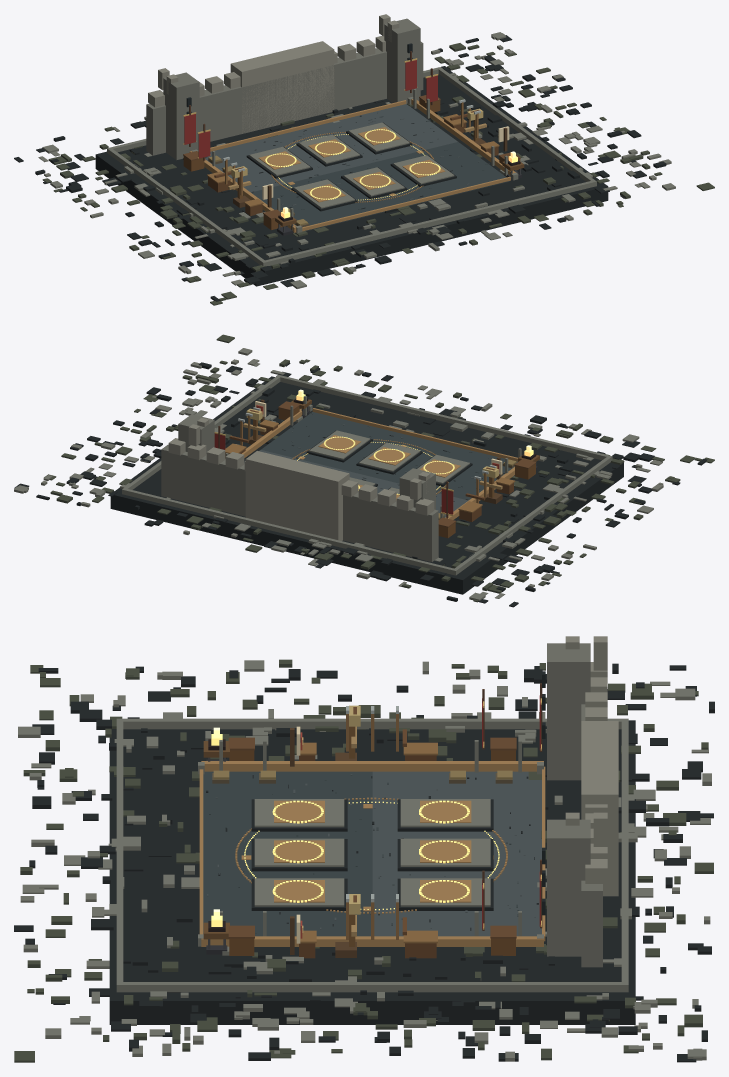
The model's file is preview-castle.glb.
3 renders of one model, top to bottom at view 1: azimuth 30°, elevation 25°; view 2: azimuth 150°, elevation 25°; view 3: azimuth 270°, elevation 25°, orthographic. The views are drawn at different scales.
Visible parts, largest first — view 1: Miniature_Plinth, Miniature_Outer_Rubble, Miniature_Castle_Wall, Miniature_Six_Grounded_Foundations (×2), Miniature_Enemy_Floor, Miniature_Friendly_Floor, Miniature_Gatehouse, Miniature_Frame, Miniature_Towers, Miniature_Arena_Curb, Miniature_Battlements, Miniature_Banners (+5 smaller); view 2: Miniature_Outer_Rubble, Miniature_Plinth, Miniature_Castle_Wall, Miniature_Gatehouse, Miniature_Frame, Miniature_Friendly_Floor, Miniature_Six_Grounded_Foundations, Miniature_Battlements, Miniature_Towers, Miniature_Arena_Curb, Miniature_Barrels, Miniature_Props (+4 smaller); view 3: Miniature_Plinth, Miniature_Outer_Rubble, Miniature_Six_Grounded_Foundations (×2), Miniature_Enemy_Floor, Miniature_Friendly_Floor, Miniature_Frame, Miniature_Towers, Miniature_Arena_Curb, Miniature_Gatehouse, Miniature_Props, Miniature_Barrels, Miniature_Battlements (+8 smaller).
Part boxes in pixels (box(x1,y1,x2,y2)): Miniature_Plinth: box(95, 70, 608, 286); Miniature_Outer_Rubble: box(14, 32, 714, 305); Miniature_Castle_Wall: box(146, 41, 423, 155); Miniature_Six_Grounded_Foundations (×2): box(246, 122, 456, 211); Miniature_Enemy_Floor: box(205, 104, 457, 192); Miniature_Friendly_Floor: box(251, 142, 509, 231); Miniature_Gatehouse: box(230, 41, 334, 133); Miniature_Frame: box(107, 67, 596, 266); Miniature_Towers: box(158, 14, 420, 160); Miniature_Arena_Curb: box(189, 99, 516, 232); Miniature_Battlements: box(148, 35, 385, 107); Miniature_Banners: box(183, 51, 438, 160); Miniature_Outer_Rubble: box(14, 334, 714, 607); Miniature_Plinth: box(110, 376, 623, 594); Miniature_Castle_Wall: box(161, 444, 438, 561); Miniature_Gatehouse: box(245, 451, 349, 540); Miniature_Frame: box(122, 375, 612, 575); Miniature_Friendly_Floor: box(261, 412, 517, 500); Miniature_Six_Grounded_Foundations: box(306, 430, 472, 499); Miniature_Battlements: box(168, 438, 434, 515); Miniature_Towers: box(178, 414, 435, 509); Miniature_Arena_Curb: box(242, 408, 517, 519); Miniature_Barrels: box(225, 419, 515, 521); Miniature_Props: box(278, 401, 536, 538); Miniature_Plinth: box(109, 720, 635, 1024); Miniature_Outer_Rubble: box(14, 659, 714, 1062); Miniature_Six_Grounded_Foundations (×2): box(251, 799, 493, 910); Miniature_Enemy_Floor: box(372, 771, 541, 936); Miniature_Friendly_Floor: box(203, 771, 372, 936); Miniature_Frame: box(116, 718, 628, 992); Miniature_Towers: box(547, 636, 607, 956); Miniature_Arena_Curb: box(199, 761, 545, 946); Miniature_Gatehouse: box(581, 721, 618, 896); Miniature_Props: box(228, 737, 516, 955); Miniature_Barrels: box(299, 742, 437, 958); Miniature_Battlements: box(585, 662, 607, 883).
Bounding box in the file's own units: 13.66 × 2.4 × 10.13.
